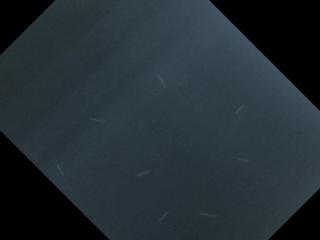scratch: (152, 207, 173, 226), (230, 98, 249, 118), (132, 165, 153, 182), (86, 112, 108, 128), (195, 208, 220, 222), (52, 159, 68, 180), (154, 71, 170, 92), (232, 153, 252, 166)
